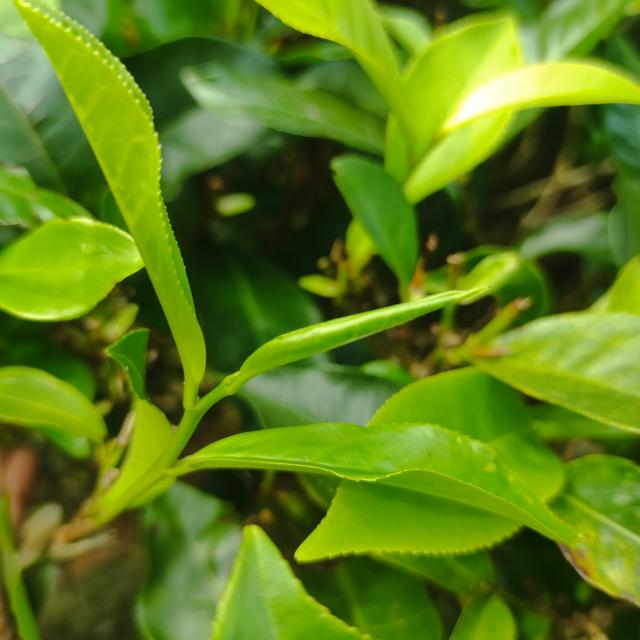unopened_leaf: (226, 268, 493, 394)
